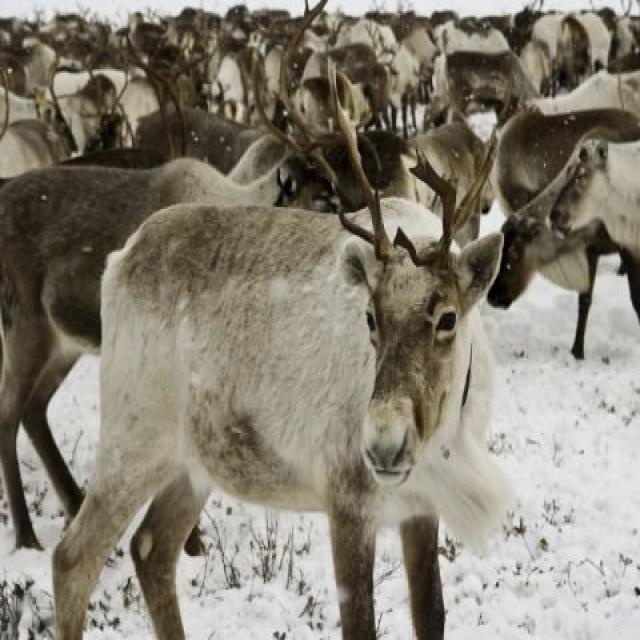reindeer: (52, 82, 508, 638), (0, 0, 339, 547), (488, 159, 612, 308), (549, 140, 639, 317)
